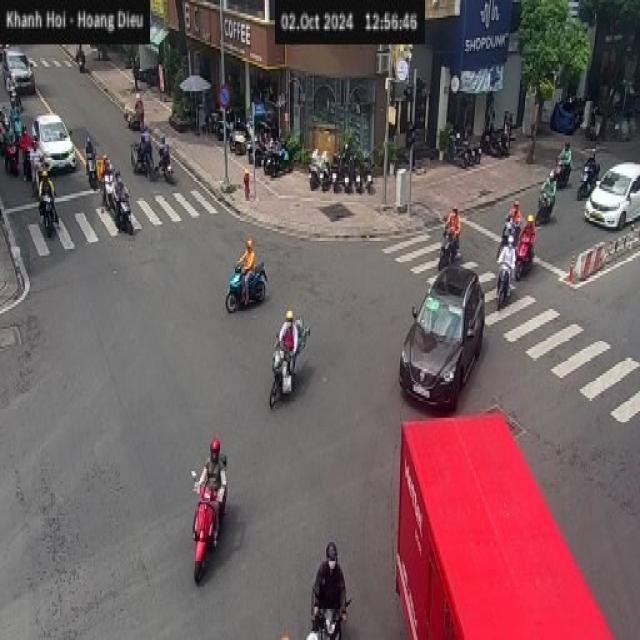car: (397, 262, 485, 411), (584, 160, 638, 229), (26, 108, 84, 168), (0, 47, 36, 95)
container-truck: (394, 409, 615, 635)
motorcycle: (190, 466, 226, 584), (269, 318, 310, 409), (225, 260, 267, 311), (306, 596, 352, 638), (528, 182, 559, 229), (511, 234, 541, 280), (495, 249, 515, 309), (108, 197, 135, 239), (438, 225, 460, 271), (38, 191, 58, 238), (551, 160, 576, 197), (261, 144, 294, 172), (120, 101, 149, 129), (453, 140, 479, 171), (351, 150, 364, 204), (497, 216, 517, 250), (79, 152, 99, 184), (254, 138, 283, 160), (579, 168, 600, 198), (158, 160, 181, 187), (8, 84, 30, 112), (235, 121, 257, 149), (361, 153, 374, 200), (5, 134, 24, 166), (339, 156, 352, 202), (138, 160, 159, 187), (308, 145, 320, 191), (494, 115, 510, 149), (97, 174, 115, 204), (216, 115, 238, 138), (464, 134, 477, 172), (490, 126, 506, 156), (316, 152, 329, 188), (33, 164, 52, 188), (467, 134, 477, 176), (8, 110, 24, 135), (330, 149, 340, 188)
person: (312, 540, 346, 638), (235, 236, 256, 304), (278, 309, 298, 373), (444, 204, 460, 258), (584, 138, 600, 191), (499, 227, 518, 270), (522, 208, 537, 256), (5, 78, 24, 115), (536, 173, 556, 208), (114, 171, 130, 211), (39, 160, 53, 204), (139, 128, 157, 162), (157, 125, 170, 171), (95, 148, 111, 184), (507, 195, 521, 234), (560, 134, 571, 183), (83, 138, 101, 164), (14, 108, 31, 135), (132, 91, 146, 122), (1, 112, 14, 144), (95, 302, 96, 303)
